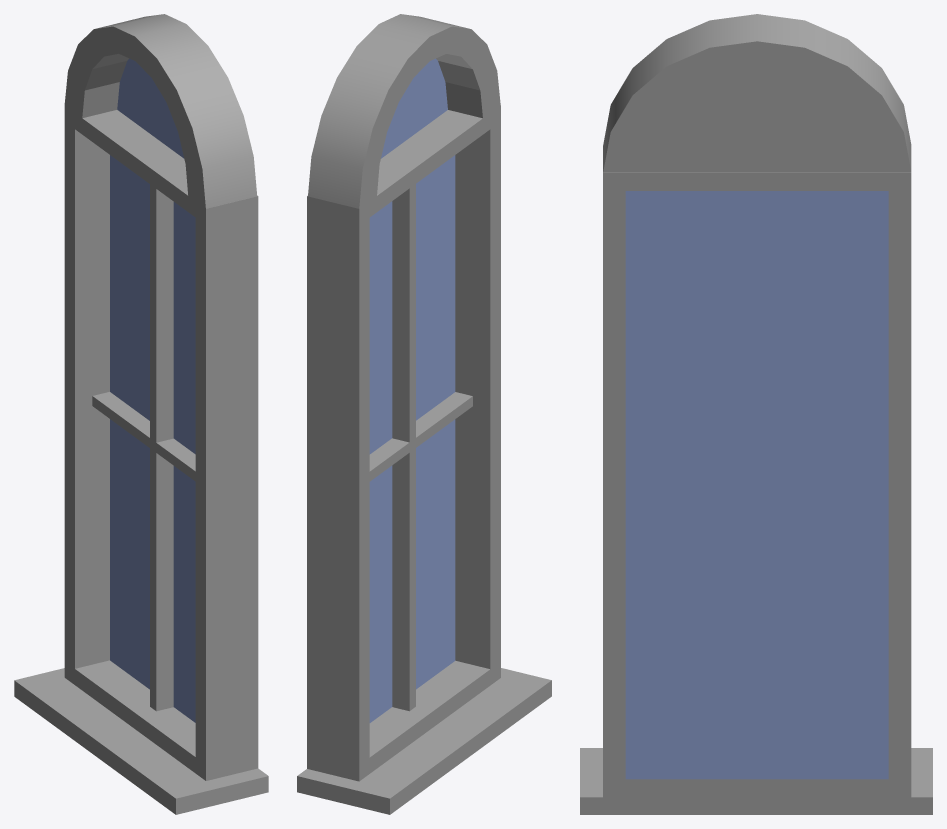
File: Town_hall_Archwindow_medium.fbx
3 renders of one model, left to right at view 1: azimuth 30°, elevation 25°; view 2: azimuth 150°, elevation 25°; view 3: azimuth 270°, elevation 25°, orthographic. The views are drawn at different scales.
Visible parts, largest first — view 1: Town_hall_Archwindow_medium; view 2: Town_hall_Archwindow_medium; view 3: Town_hall_Archwindow_medium.
Boxes of the visible parts, left/top/right/bottom form: Town_hall_Archwindow_medium: left=14, top=14, right=268, bottom=814; Town_hall_Archwindow_medium: left=297, top=14, right=551, bottom=814; Town_hall_Archwindow_medium: left=580, top=14, right=932, bottom=814.
Bounding box in the file's own units: 26.26 × 192 × 79.28.
